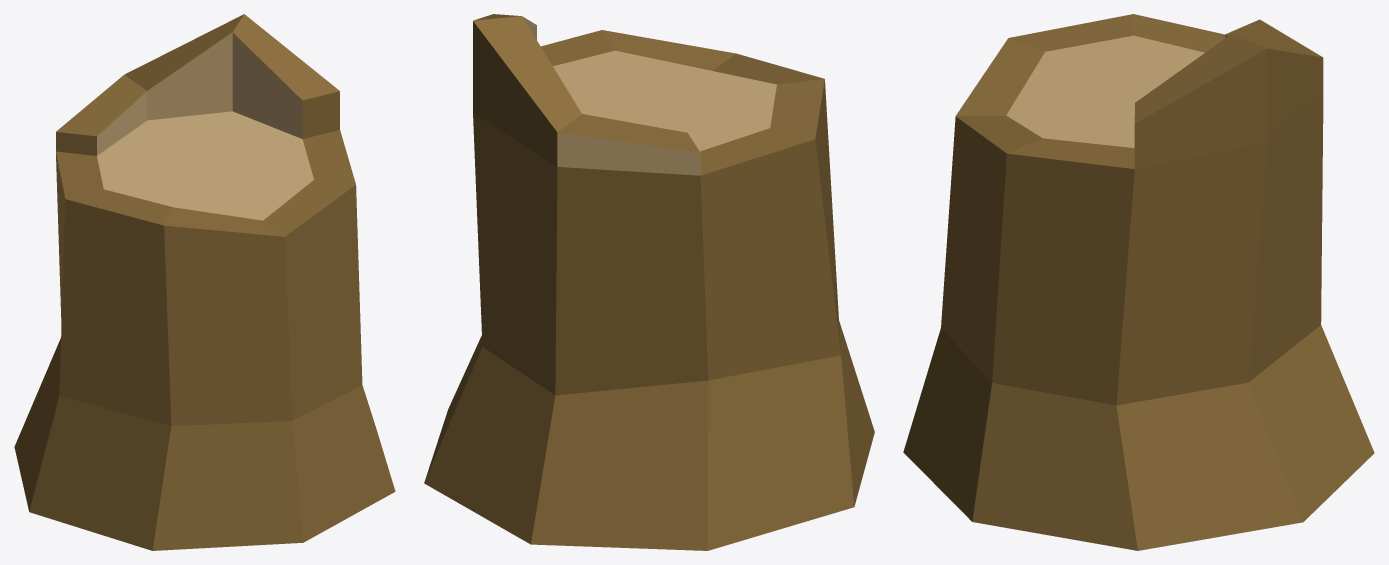
Rendered from trunk2.fbx.
The picture shows the model from 3 angles, left to right: view 1: azimuth 30°, elevation 25°; view 2: azimuth 150°, elevation 25°; view 3: azimuth 270°, elevation 25°; orthographic projection. The views are drawn at different scales.
Parts seen in each view (by area): view 1: trunk2_LOD0; view 2: trunk2_LOD0; view 3: trunk2_LOD0.
Part boxes in pixels (left/top/right/bottom): trunk2_LOD0: left=14, top=14, right=395, bottom=550; trunk2_LOD0: left=424, top=14, right=874, bottom=550; trunk2_LOD0: left=903, top=14, right=1374, bottom=550.
Size of what is drawn, in the model's own units: 2.02 by 2.18 by 2.03.
